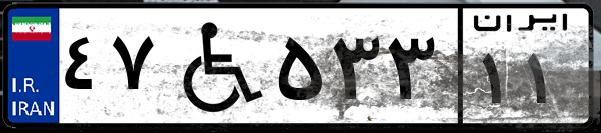1: (475, 38, 525, 113), (525, 38, 570, 115)
3: (385, 28, 445, 110), (330, 28, 385, 110)
4: (57, 26, 110, 100)
5: (270, 28, 330, 110)
7: (110, 28, 158, 98)
ژ (معلولین و جانبازان): (158, 12, 270, 120)
